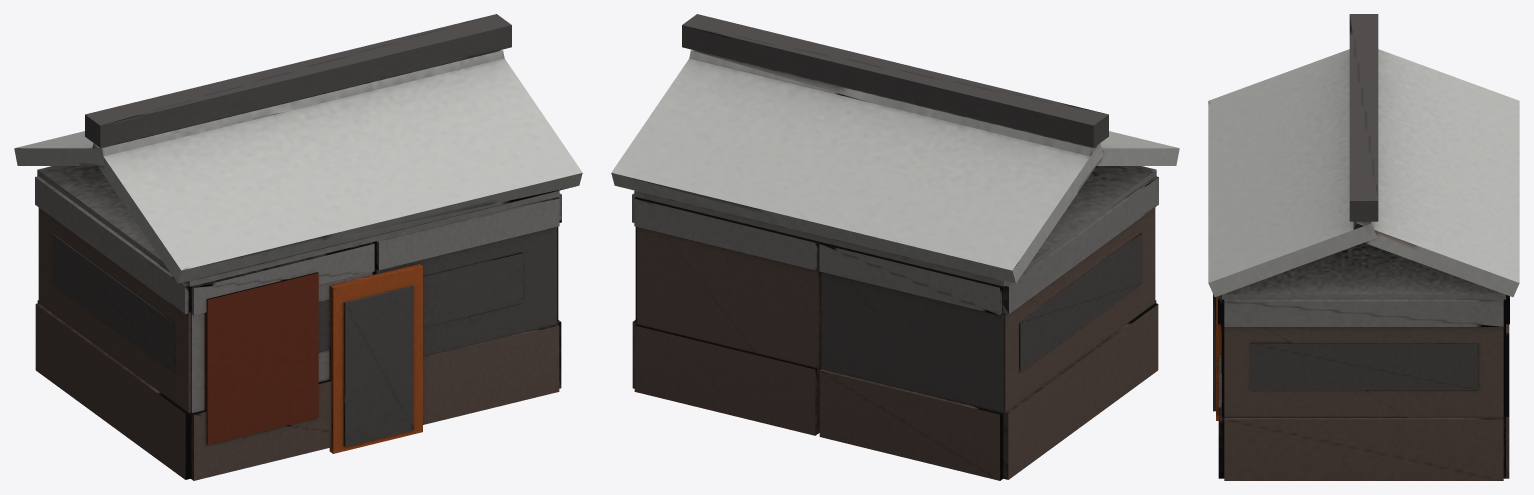
File: B_old_camp.glb
The picture shows the model from 3 angles, left to right: view 1: azimuth 30°, elevation 25°; view 2: azimuth 150°, elevation 25°; view 3: azimuth 270°, elevation 25°; orthographic projection. The views are drawn at different scales.
Visible parts, largest first — view 1: Cube; view 2: Cube; view 3: Cube.
Part boxes in pixels (<box>): Cube: <box>14,14,582,480</box>; Cube: <box>611,14,1179,480</box>; Cube: <box>1208,14,1519,480</box>.
Bounding box in the file's own units: 7.8 × 5.7 × 5.49.
1 material, 1 textured.
